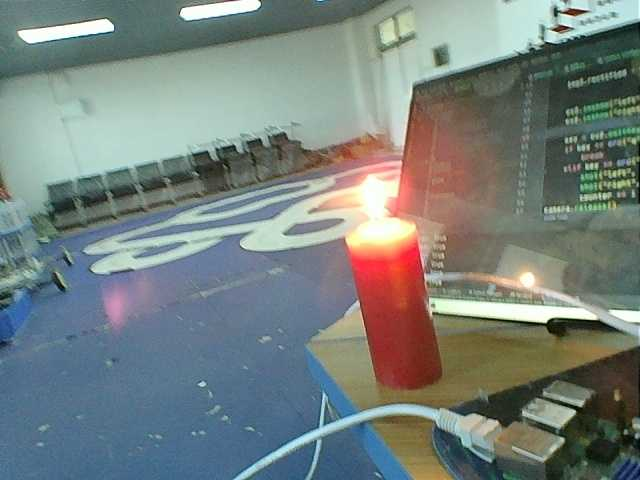candle: (342, 232, 456, 397)
fire: (352, 170, 401, 225)
